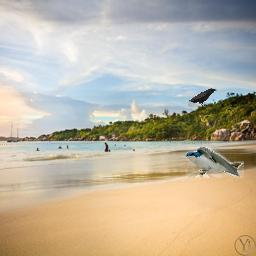Crow: (188, 88, 217, 107)
Swallow: (186, 147, 244, 178)
